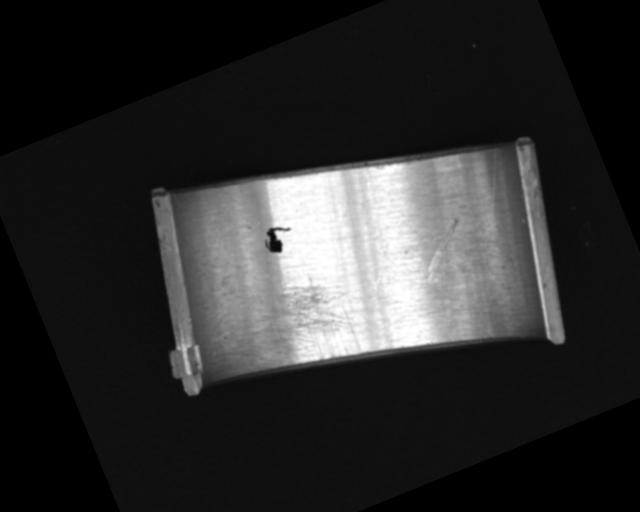blot: (259, 219, 298, 257)
nick: (327, 164, 414, 293), (454, 145, 529, 245), (410, 217, 475, 279), (420, 265, 457, 330)
scratch: (220, 264, 372, 394)
